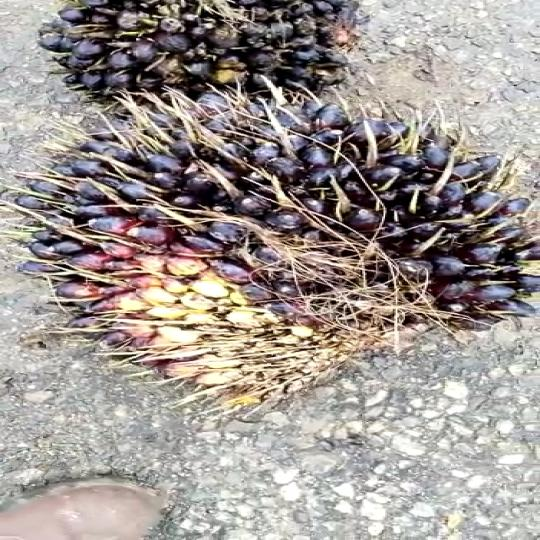mentah: (13, 82, 540, 395), (26, 0, 356, 122)
